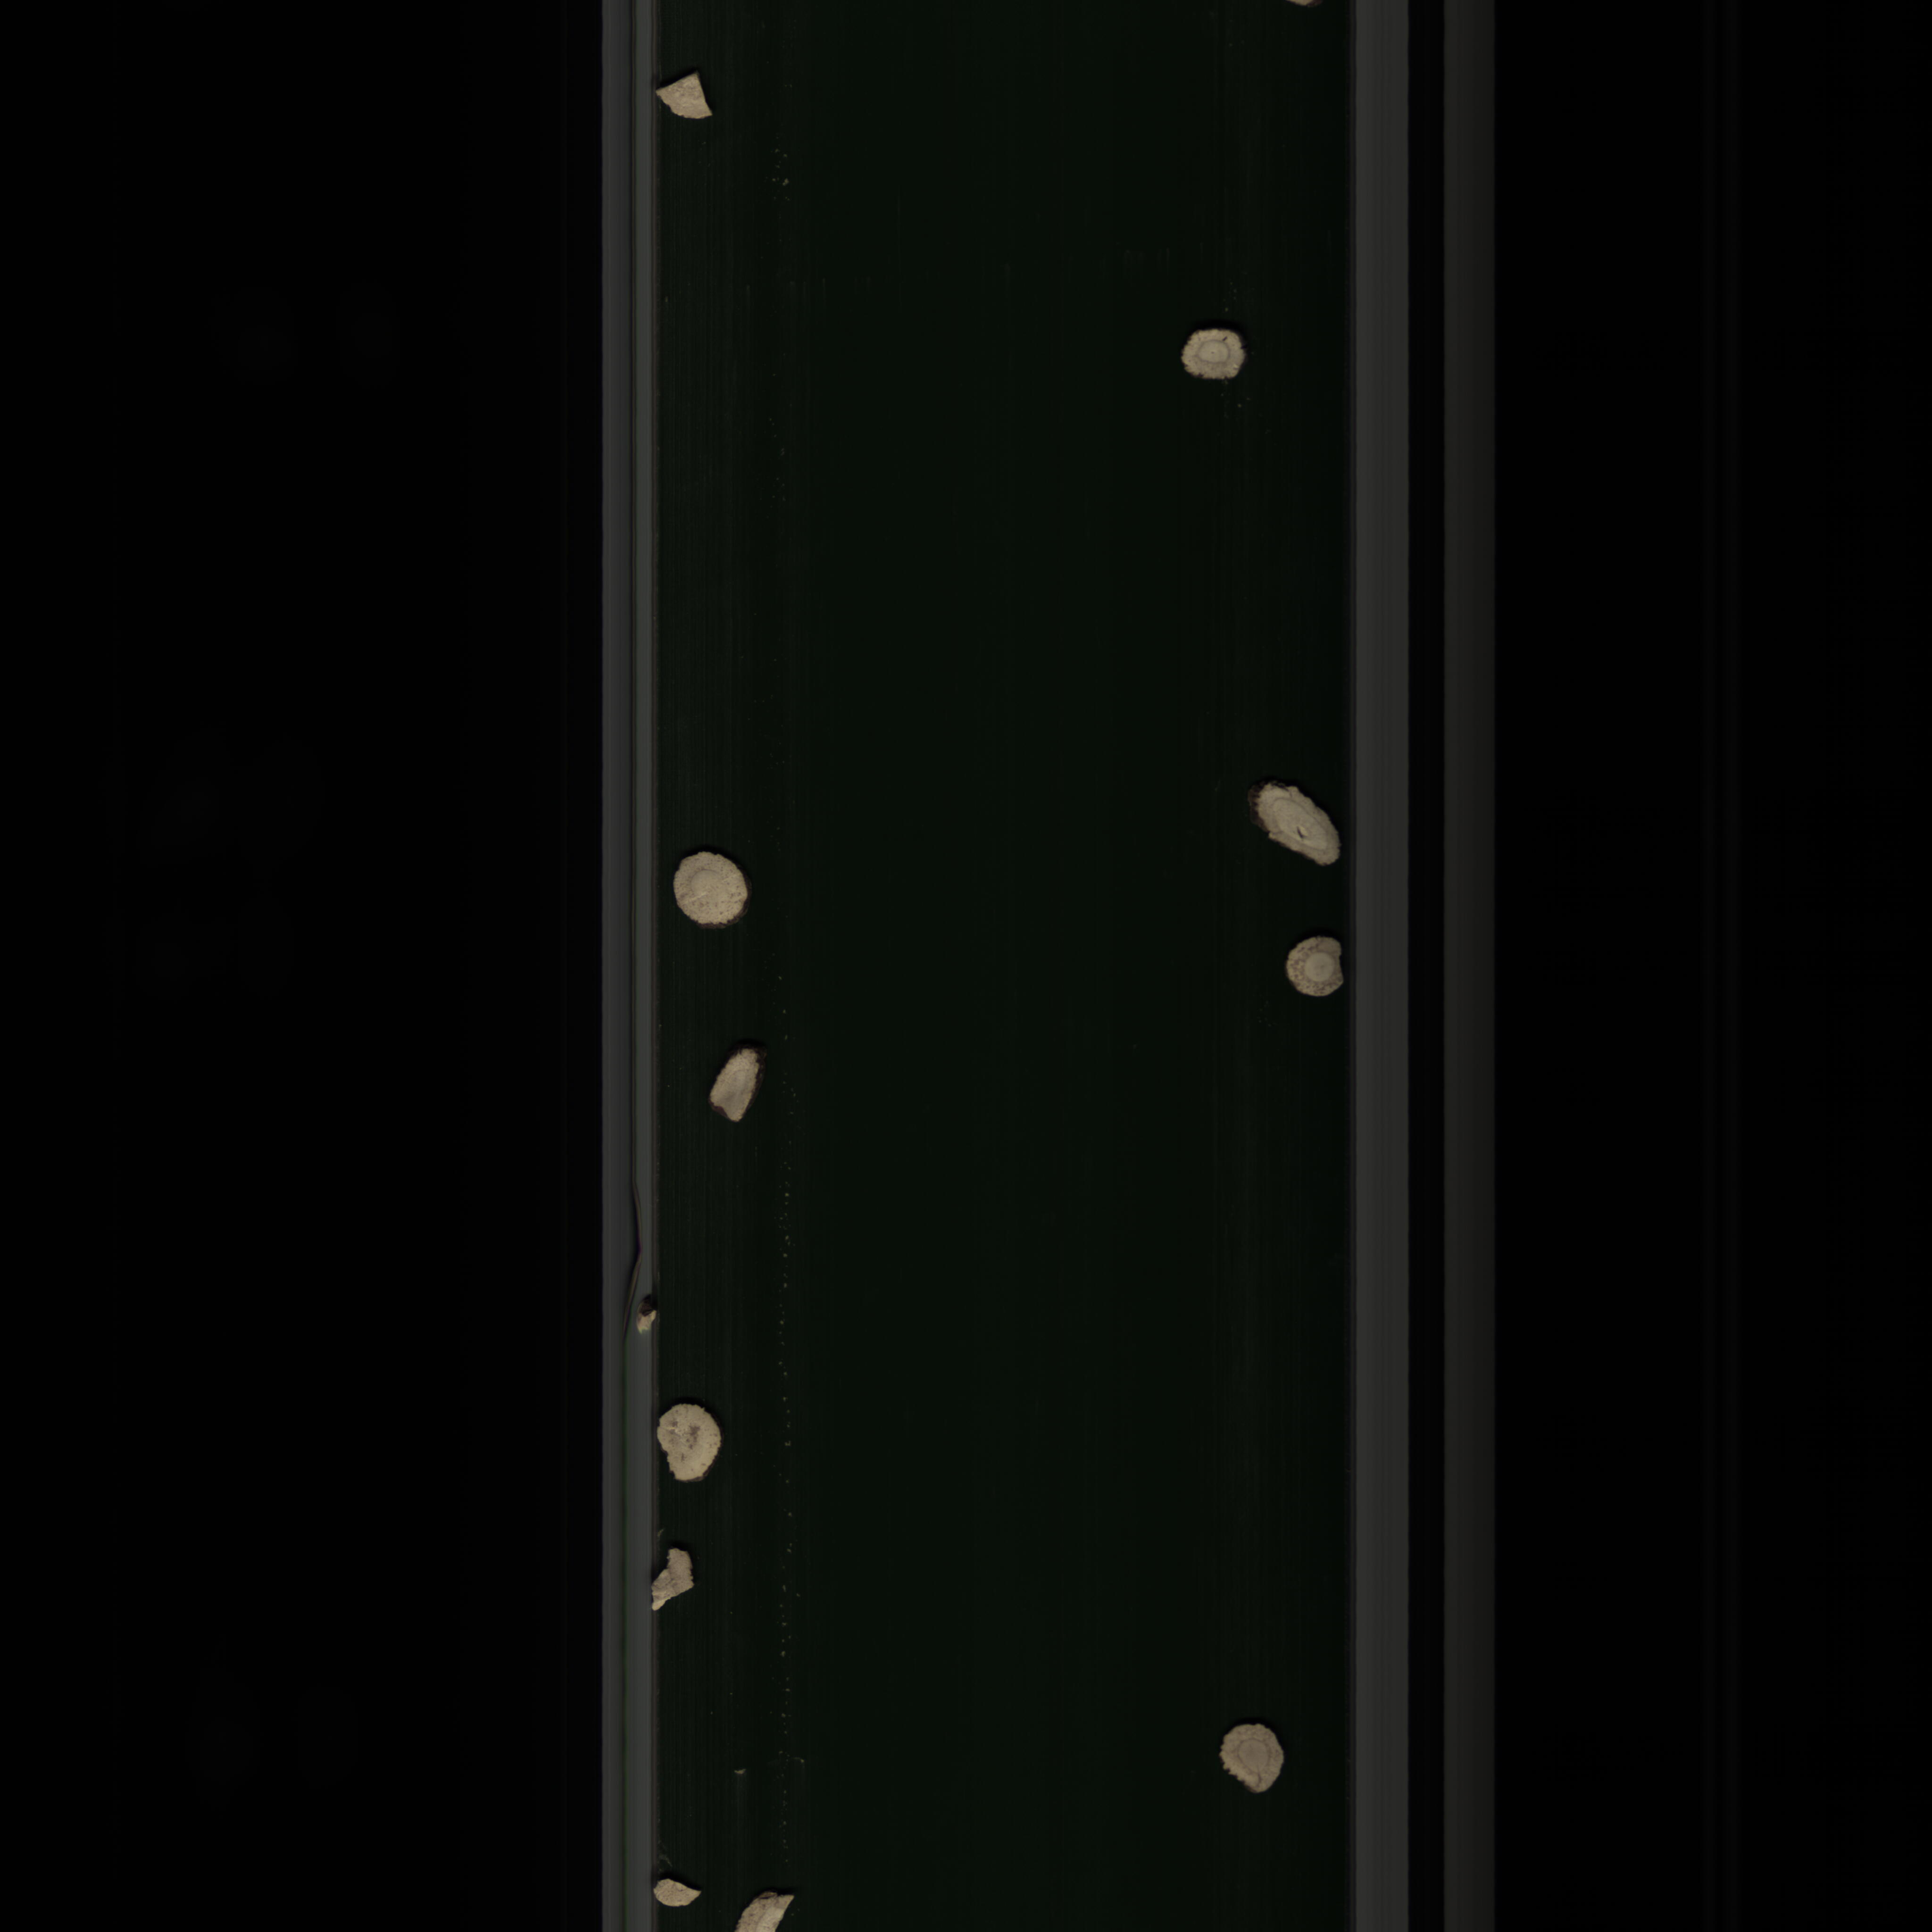debris: (655, 69, 724, 126), (648, 1543, 697, 1612), (649, 1865, 720, 1911)
distortion: (1240, 777, 1352, 876), (701, 1040, 766, 1132)
